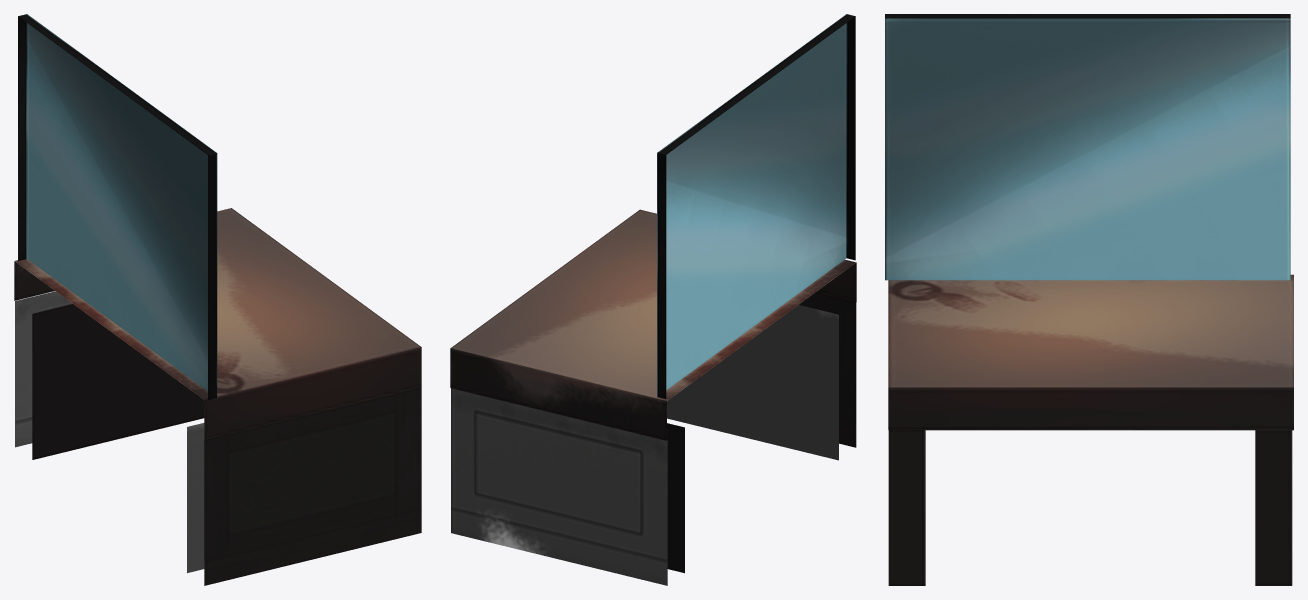
File: Tx_prop_barber_desk_1.fbx
3 views of the same model, side by side, from view 1: azimuth 30°, elevation 25°; view 2: azimuth 150°, elevation 25°; view 3: azimuth 270°, elevation 25° (orthographic). The views are drawn at different scales.
Visible parts, largest first — view 1: polySurface31, polySurface26, polySurface25, polySurface27; view 2: polySurface31, polySurface27, polySurface25, polySurface26; view 3: polySurface31, polySurface25, polySurface26, polySurface27.
Part boxes in pixels (x1=…): polySurface31: x1=18, y1=14, x2=217, y2=400; polySurface26: x1=187, y1=387, x2=421, y2=585; polySurface25: x1=14, y1=208, x2=421, y2=439; polySurface27: x1=15, y1=291, x2=204, y2=459; polySurface31: x1=657, y1=14, x2=855, y2=398; polySurface27: x1=451, y1=388, x2=684, y2=585; polySurface25: x1=450, y1=209, x2=856, y2=440; polySurface26: x1=667, y1=292, x2=856, y2=460; polySurface31: x1=885, y1=14, x2=1290, y2=280; polySurface25: x1=888, y1=274, x2=1293, y2=430; polySurface26: x1=888, y1=430, x2=925, y2=585; polySurface27: x1=1255, y1=430, x2=1292, y2=585.
Size of the model in its own units: 4.07 by 7.71 by 6.21.
